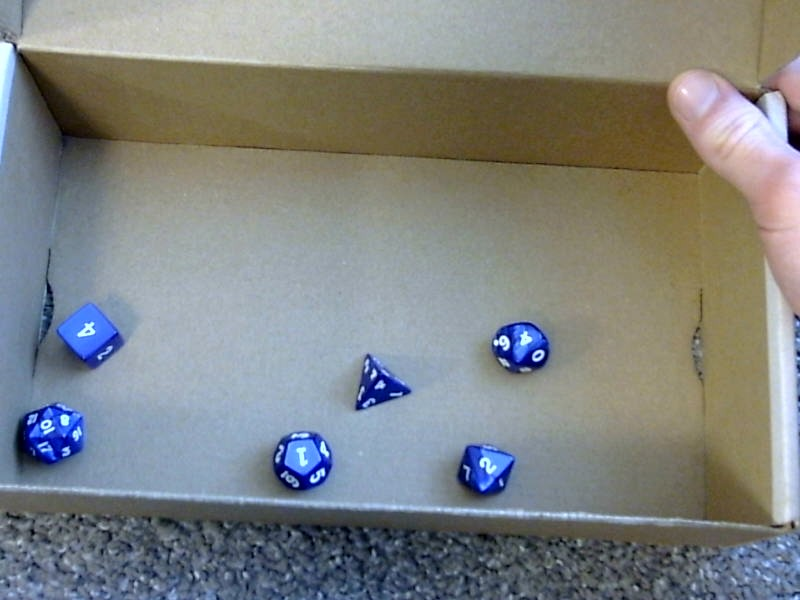d10 4: (484, 313, 555, 379)
d12 1: (268, 428, 334, 496)
d20 10: (14, 401, 85, 467)
d4 4: (352, 343, 413, 418)
d6 4: (46, 298, 124, 369)
d8 2: (451, 433, 515, 501)
